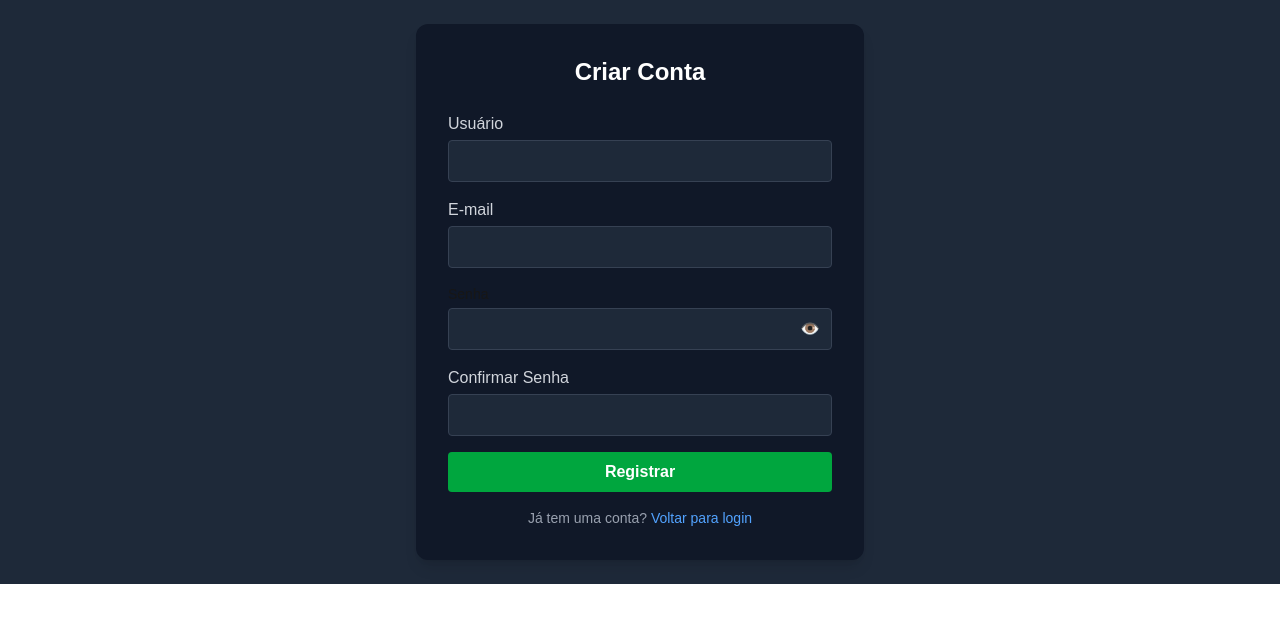
it: RegisterForm › mostra erro se senhas não coincidirem
The width and height of the screenshot is (1280, 625).
Type "john" into the field labelled "Usuário" at (640, 161), box top-left (448, 140), bottom-right (832, 182)
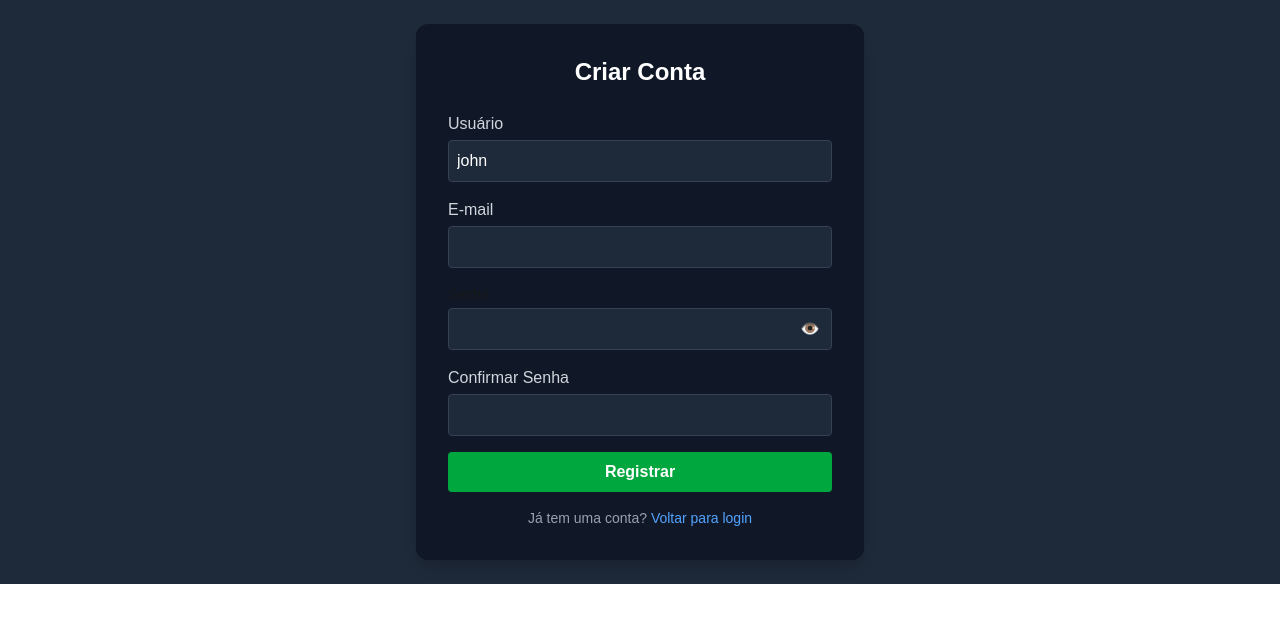
Type "john@test.com" into the field labelled "E-mail" at (640, 247), box top-left (448, 226), bottom-right (832, 268)
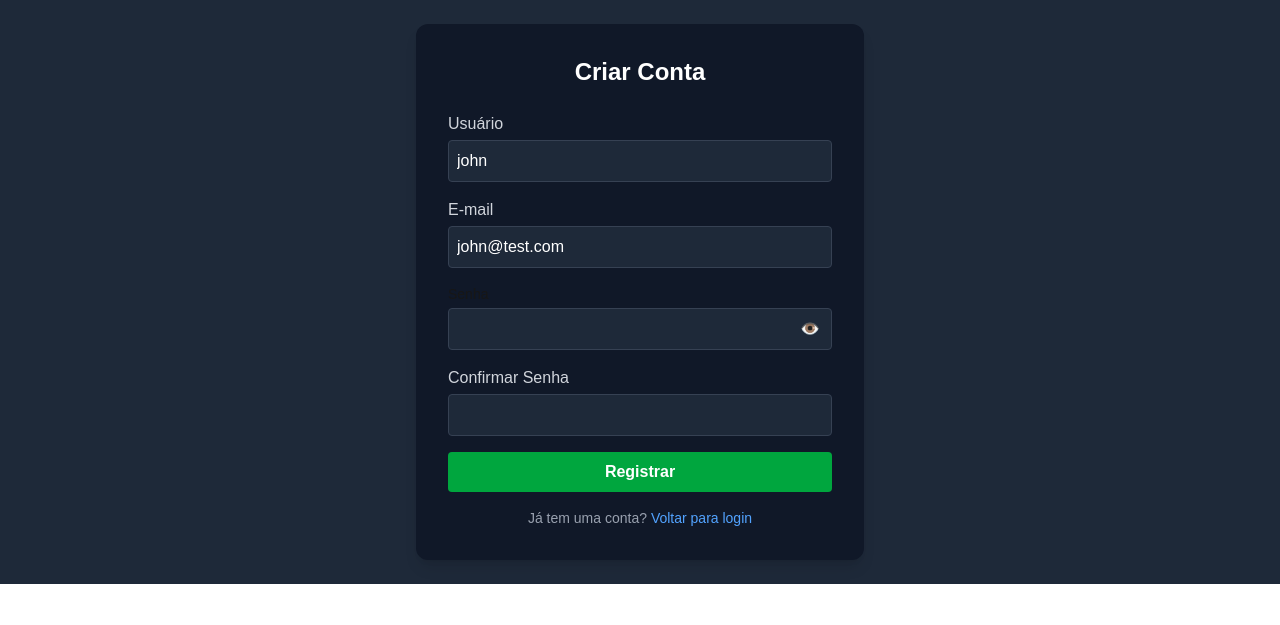
Type "123456" into the password field labelled "Senha" at (640, 329), box top-left (448, 308), bottom-right (832, 350)
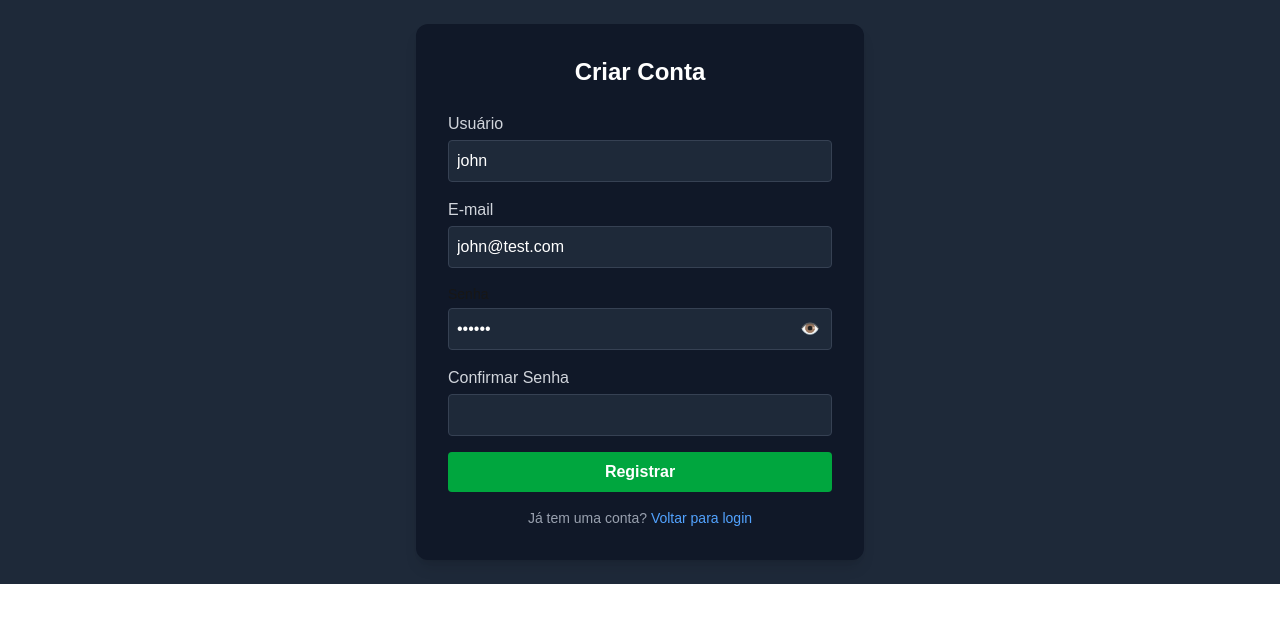
Type "654321" into the password field labelled "Confirmar Senha" at (640, 415), box top-left (448, 394), bottom-right (832, 436)
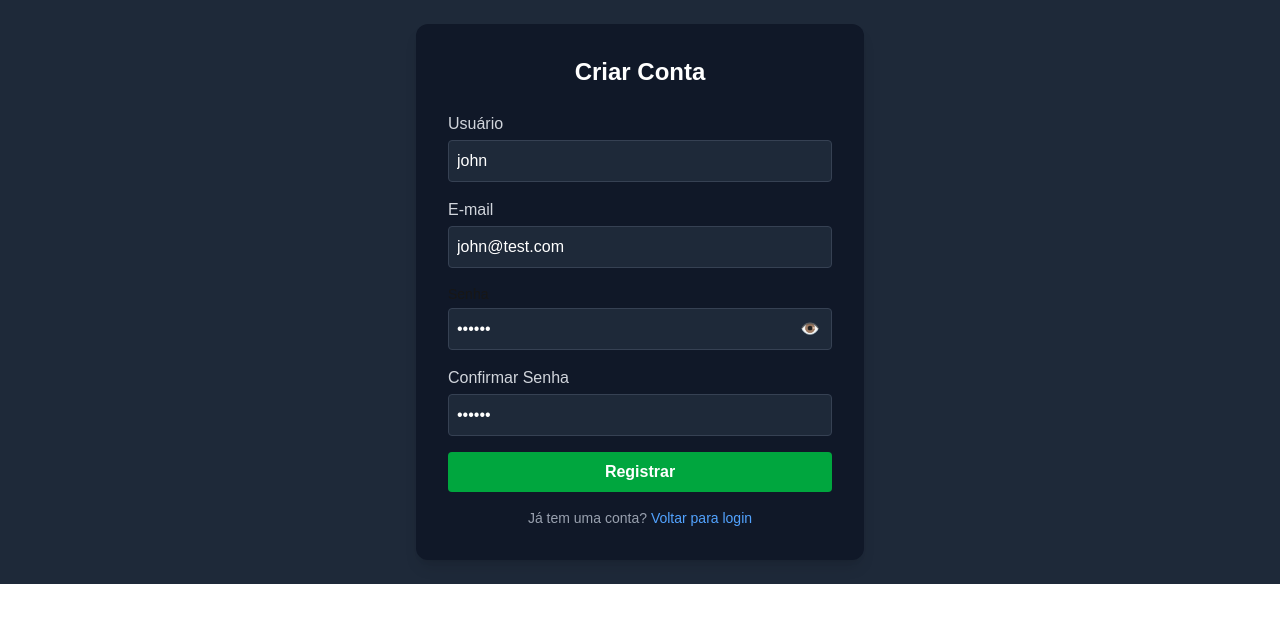
Click the button "Registrar" at (640, 472), box top-left (448, 452), bottom-right (832, 492)
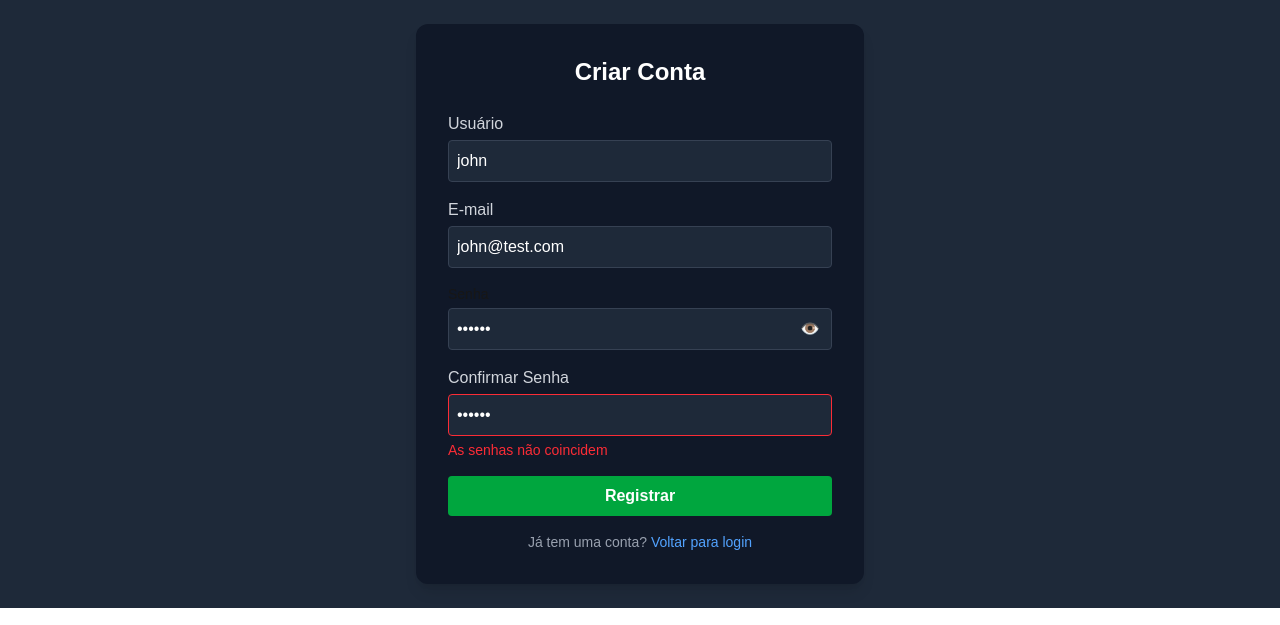
Expected: the text "As senhas não coincidem" is shown, top-left (448, 442), bottom-right (608, 458)
